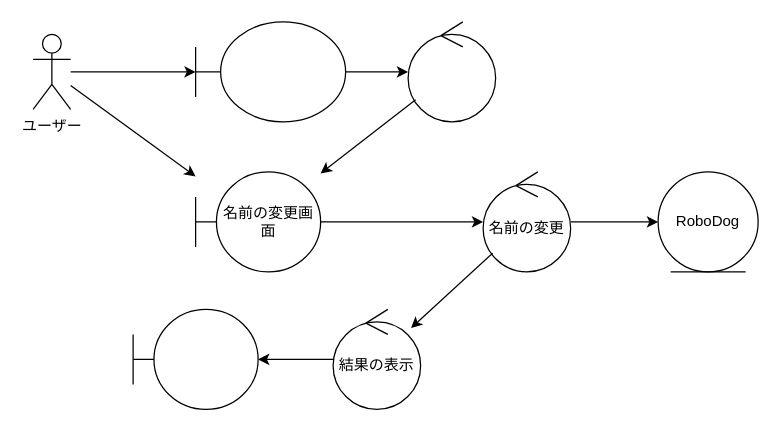
Image size: 780x431. Some labels were removed from this diagram. The box of each missing label's shape, as (x1, y1, x2, y2) in pixels:
システムメニュー: (194, 21, 346, 122)
名前の変更画面表示: (407, 21, 496, 122)
変更後の名前表示: (132, 308, 258, 409)
